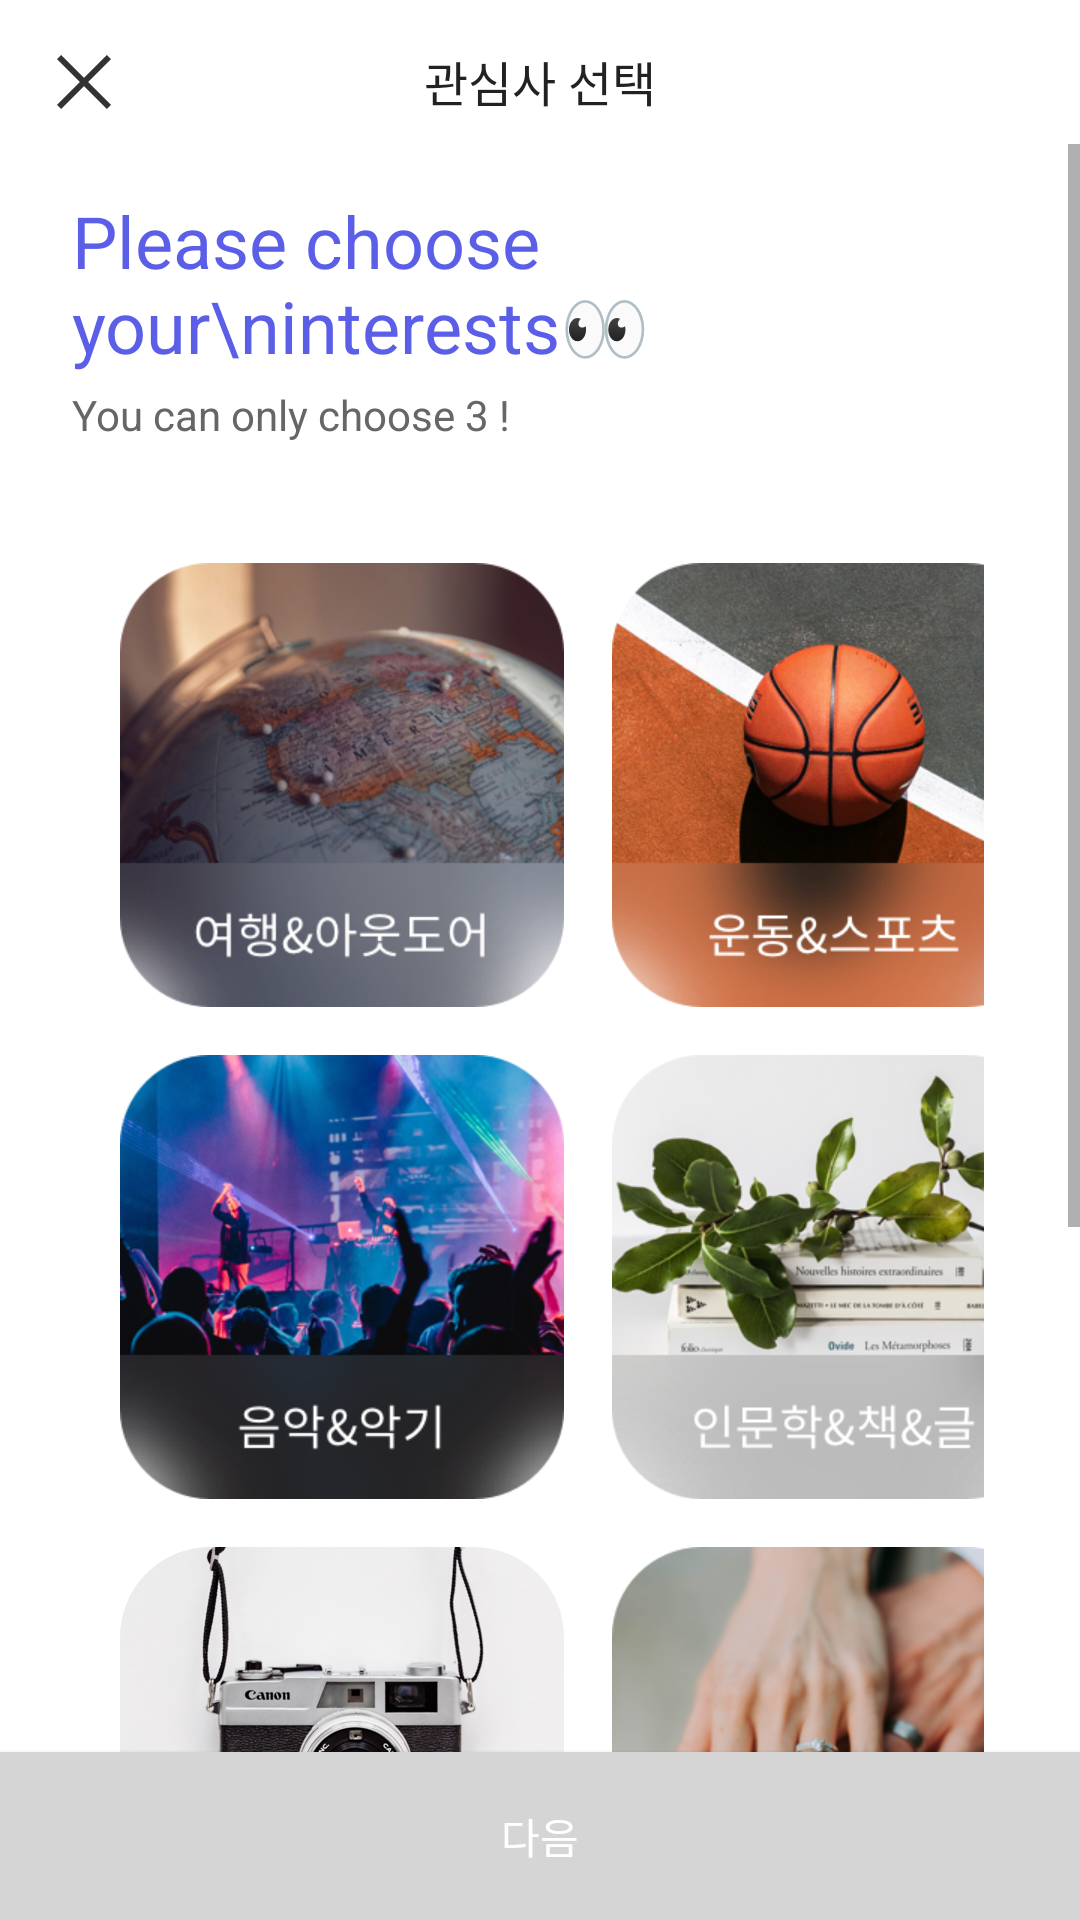

Named icons in this screenshot (1080x1920) and their centers, point (x, y):
close: point (84, 82)
